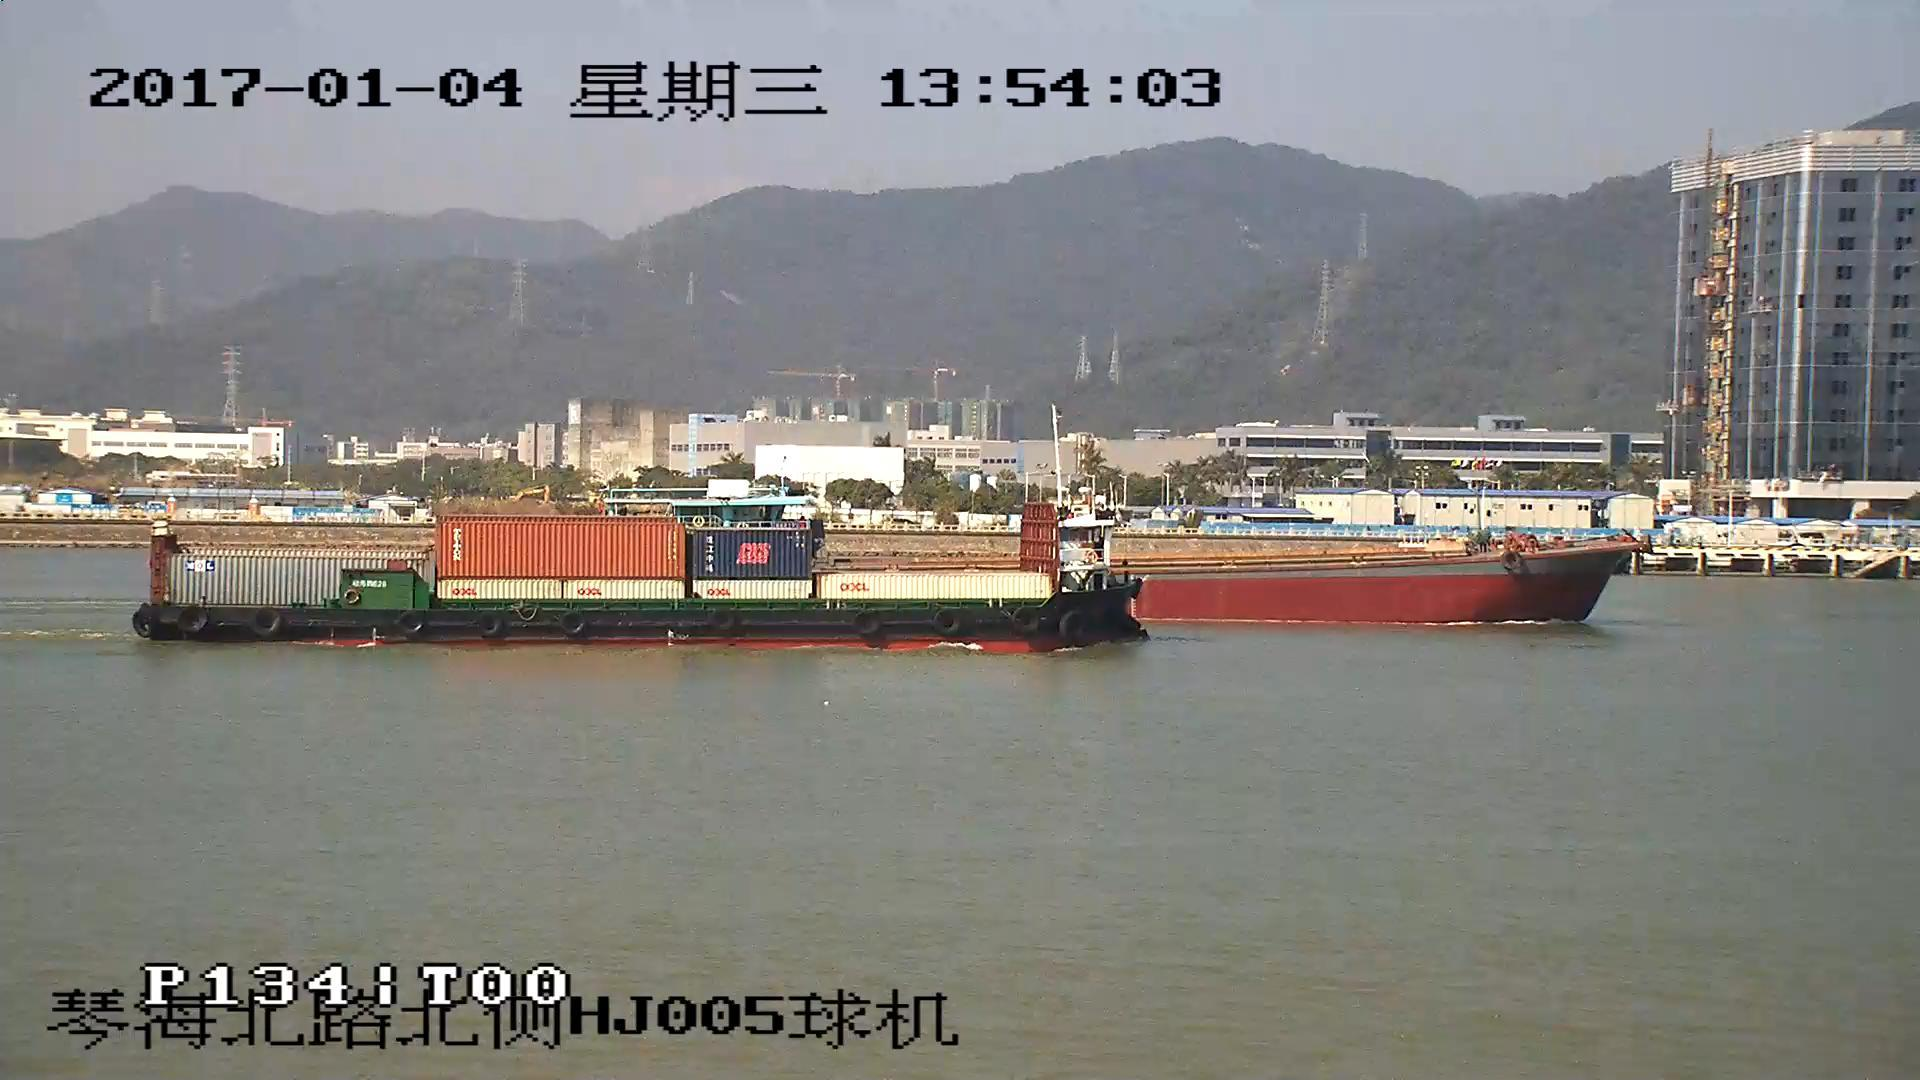Ship: (132, 506, 1153, 646), (1149, 531, 1648, 630)
